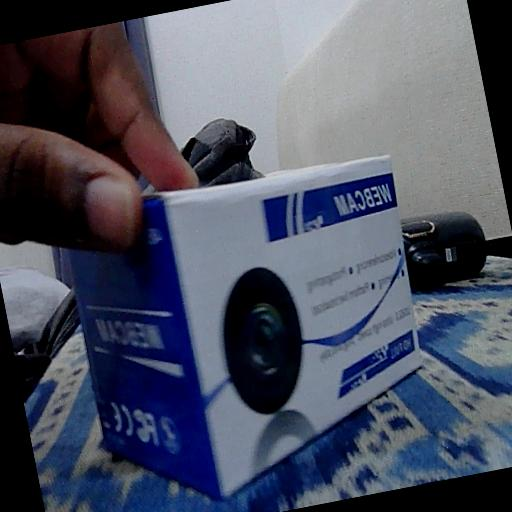webcam_box: (54, 145, 449, 512)
